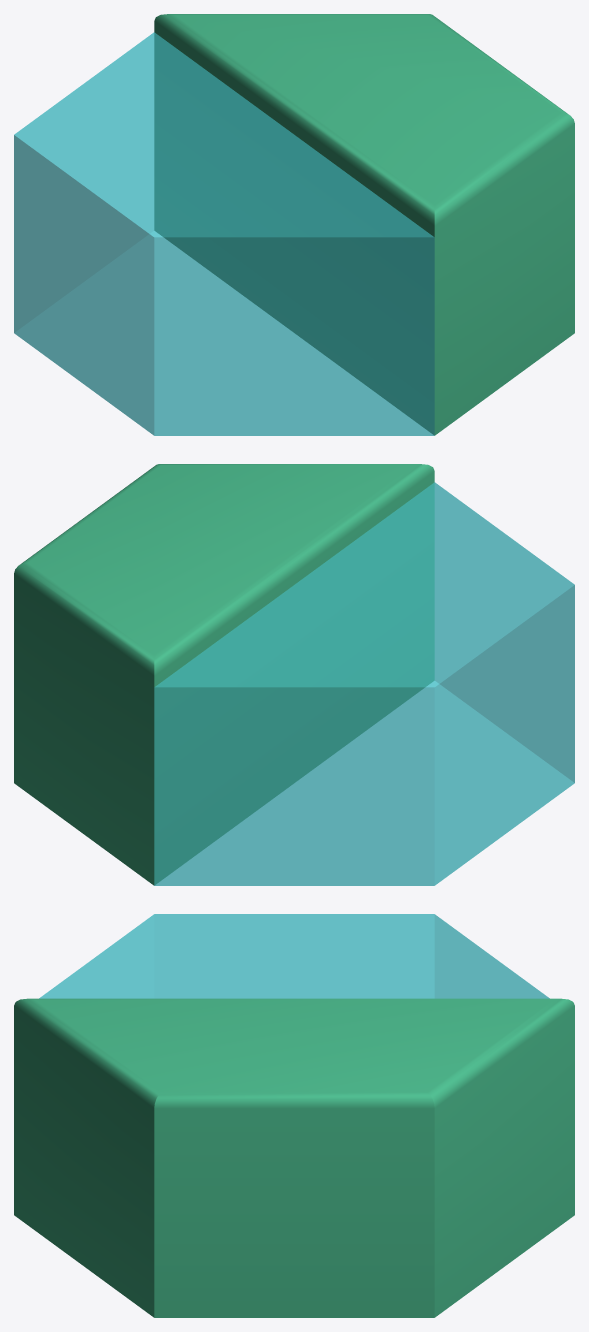
Rendered from hex_forest_waterB.fbx.
The picture shows the model from 3 angles, top to bottom: view 1: azimuth 30°, elevation 25°; view 2: azimuth 150°, elevation 25°; view 3: azimuth 270°, elevation 25°; orthographic projection.
Parts seen in each view (by area): view 1: hex_forest_waterB; view 2: hex_forest_waterB; view 3: hex_forest_waterB.
Part boxes in pixels (x1,y1,x2,y2): hex_forest_waterB: (14, 14, 574, 435); hex_forest_waterB: (14, 464, 574, 885); hex_forest_waterB: (14, 914, 574, 1317).
Bounding box in the file's own units: 200 × 100 × 231.
